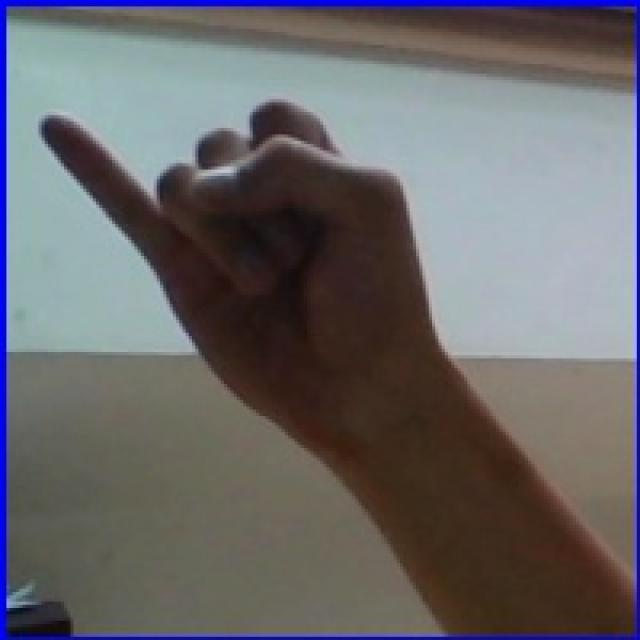J: (26, 42, 566, 500)
